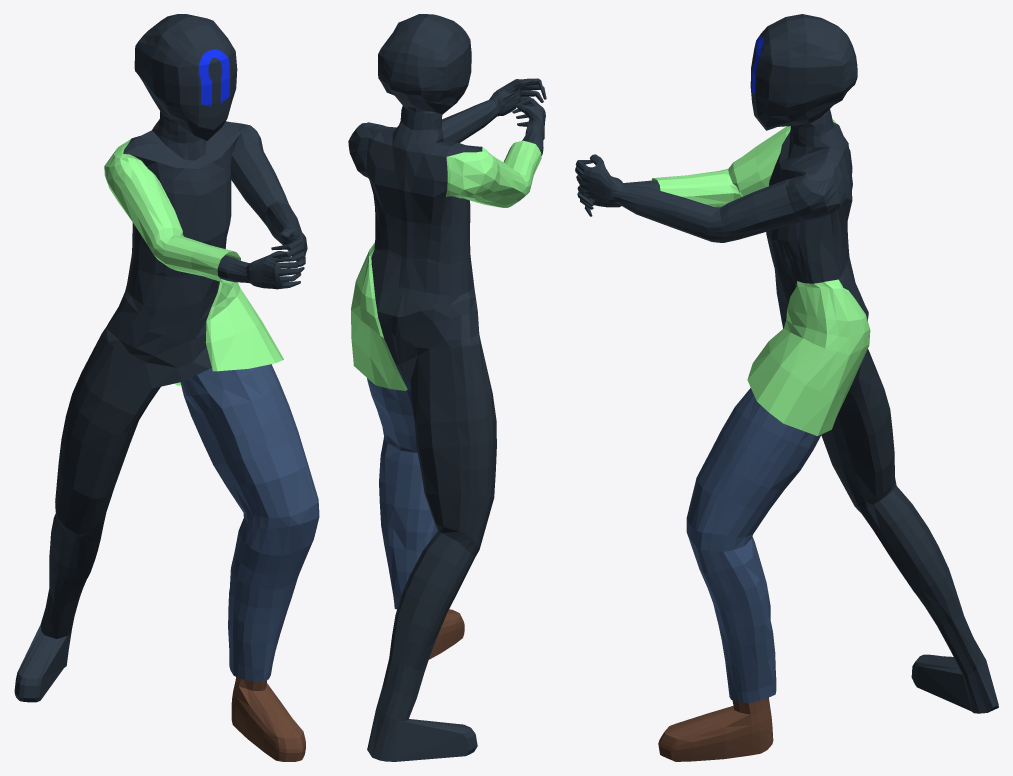
The model's file is Mar_Attack_000004.obj.
The picture shows the model from 3 angles, left to right: view 1: azimuth 30°, elevation 25°; view 2: azimuth 150°, elevation 25°; view 3: azimuth 270°, elevation 25°; orthographic projection. The views are drawn at different scales.
Visible parts, largest first — view 1: Cube.000_Cube.001; view 2: Cube.000_Cube.001; view 3: Cube.000_Cube.001.
Boxes of the visible parts, x1,y1,x2,y2 form: Cube.000_Cube.001: [14, 14, 319, 761]; Cube.000_Cube.001: [348, 14, 546, 761]; Cube.000_Cube.001: [575, 14, 998, 761].
Bounding box in the file's own units: 1.11 × 3.77 × 2.02.
